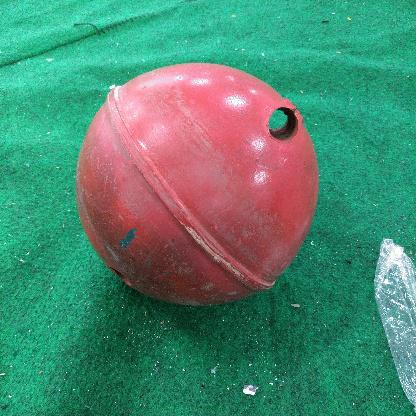red_buoy: (72, 57, 320, 312)
